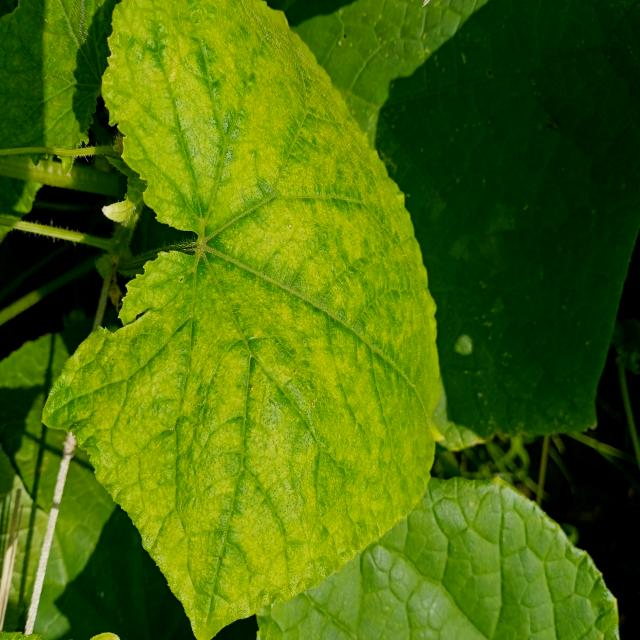cucumber_healthy: (42, 0, 443, 640), (278, 0, 638, 462), (226, 468, 627, 640), (0, 0, 113, 251)
